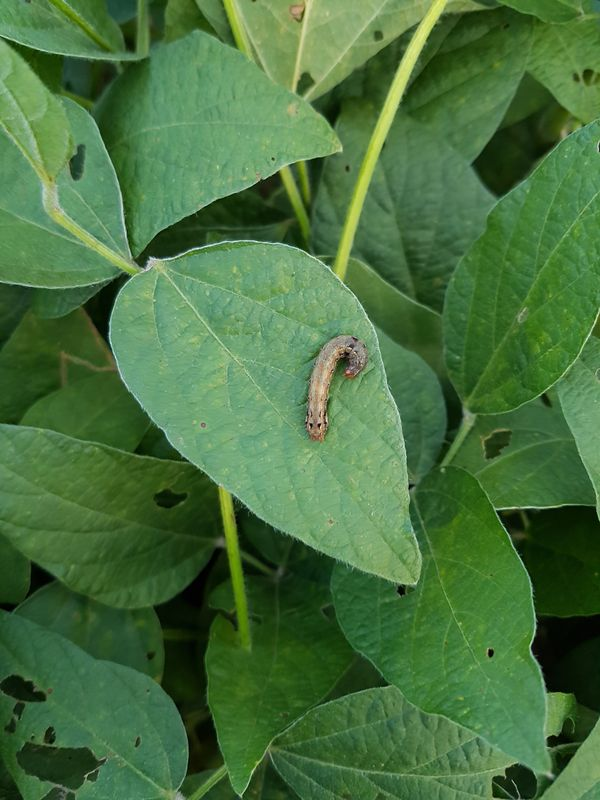Spodoptera_albula: (285, 324, 397, 451)
